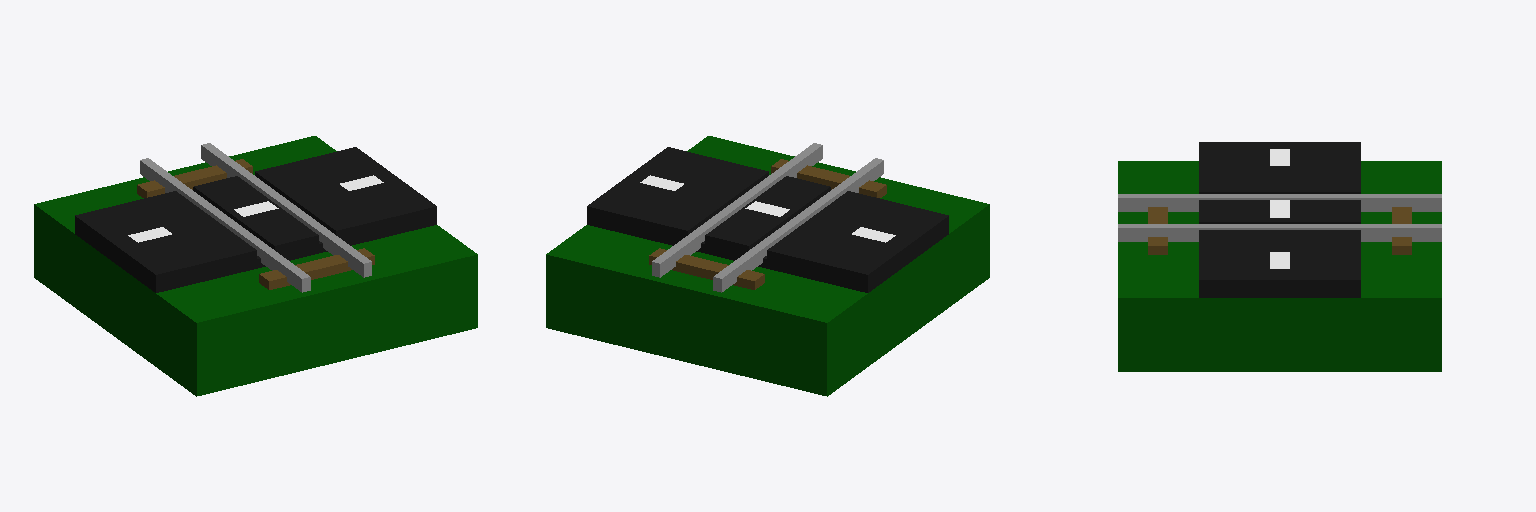
The picture shows the model from 3 angles: view 1: azimuth 30°, elevation 25°; view 2: azimuth 150°, elevation 25°; view 3: azimuth 270°, elevation 25°; orthographic projection.
Parts seen in each view (by area): view 1: grass, road, rail, wood, plane; view 2: grass, road, rail, wood, plane; view 3: grass, road, rail, wood, plane.
Part boxes in pixels (x1,y1,x2,y2): grass: (34, 136, 477, 396); road: (75, 147, 436, 292); rail: (140, 143, 371, 292); wood: (137, 159, 374, 289); plane: (128, 175, 383, 242); grass: (546, 136, 989, 396); road: (587, 147, 948, 292); rail: (652, 143, 883, 292); wood: (649, 159, 886, 289); plane: (640, 175, 895, 242); grass: (1118, 161, 1441, 371); road: (1199, 142, 1360, 297); rail: (1118, 194, 1441, 241); wood: (1148, 207, 1411, 254); plane: (1270, 149, 1289, 268).
Size of the model in its own units: 1 by 0.3187 by 1.
Materials: 6 (5 with a texture image).